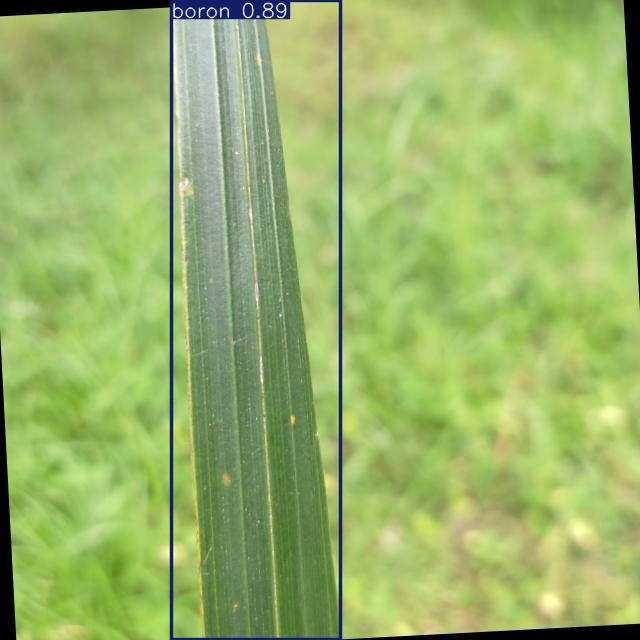nitrogen: (172, 0, 341, 640)
